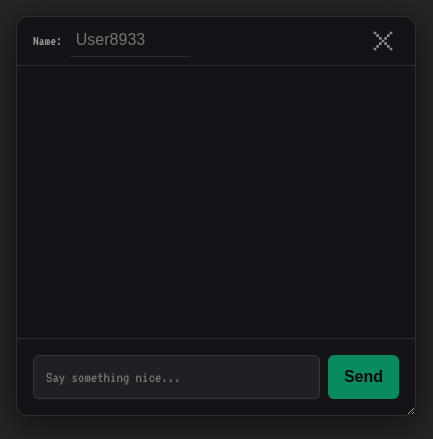
ChatPanel › should enable send button when input has text
Type "Hello!" into the field with placeholder "Say something nice..." at point(176, 377), box [33,355,320,399]
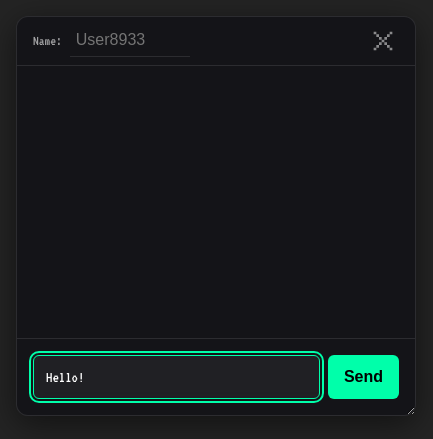
Expected: the button "Send" is enabled, [328,355,399,399]
